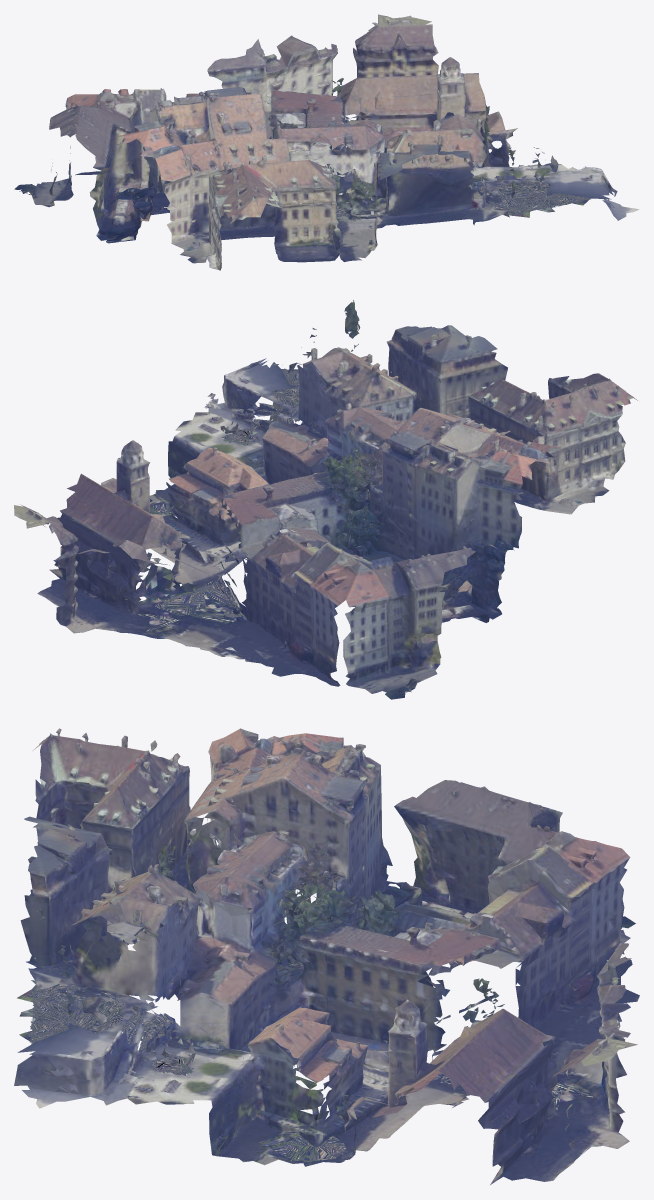
3 renders of one model, top to bottom at view 1: azimuth 30°, elevation 25°; view 2: azimuth 150°, elevation 25°; view 3: azimuth 270°, elevation 25°, orthographic. The views are drawn at different scales.
Size of the model in its own units: 108 by 46.69 by 108.
Materials: 1 (1 with a texture image).
